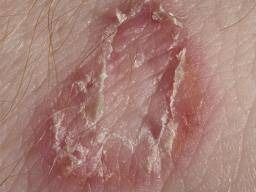Ringworm: (25, 0, 217, 190)
